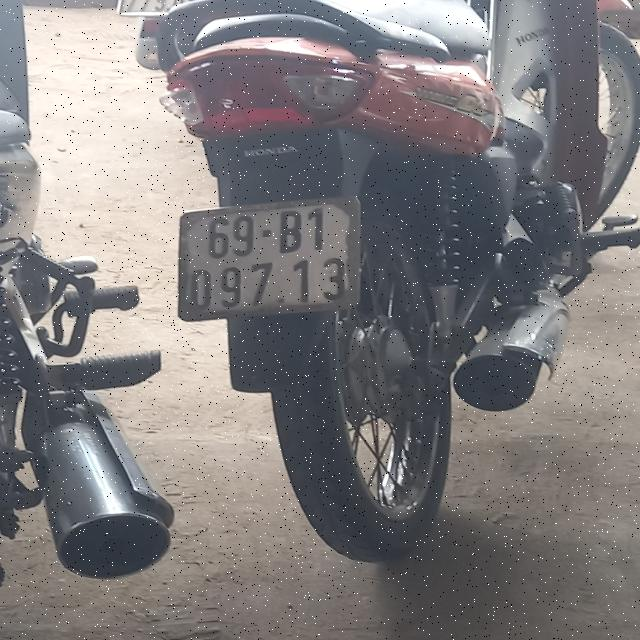0: (192, 269, 212, 312)
1: (307, 207, 324, 251), (294, 260, 309, 303)
3: (324, 257, 346, 301)
6: (208, 217, 229, 259)
7: (250, 262, 274, 308)
9: (232, 215, 255, 258), (221, 266, 243, 308)
B: (280, 210, 302, 254)
